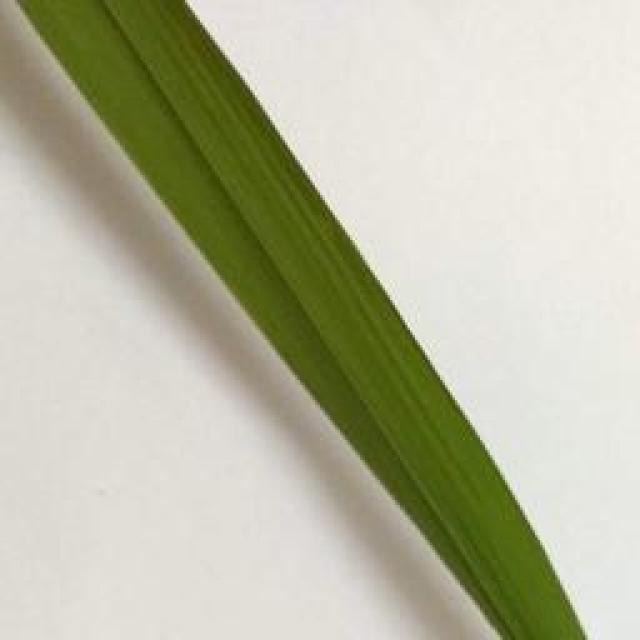Healthy-Plant: (11, 0, 587, 640)
